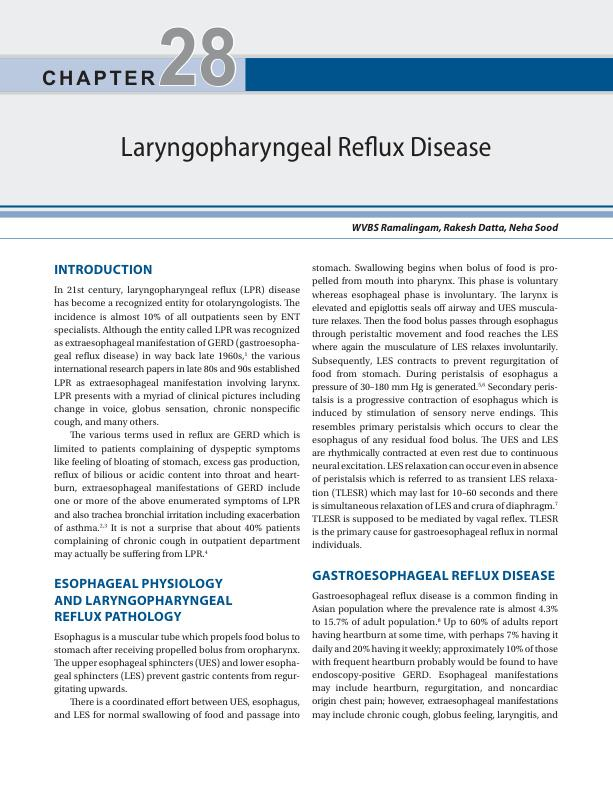chapter-heading: (121, 133, 493, 164)
section-heading: (53, 577, 234, 623), (311, 569, 557, 581), (53, 263, 153, 275)
text: (311, 262, 559, 550), (52, 284, 301, 561), (309, 590, 559, 721), (53, 631, 301, 722)
